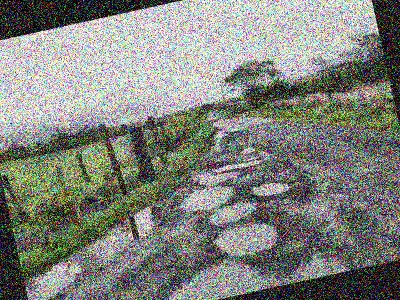pothole: (143, 246, 287, 300), (210, 214, 283, 261), (285, 243, 355, 283), (177, 179, 239, 214), (205, 196, 261, 228), (249, 175, 294, 200), (192, 165, 240, 188), (214, 157, 264, 174), (240, 144, 257, 155)
